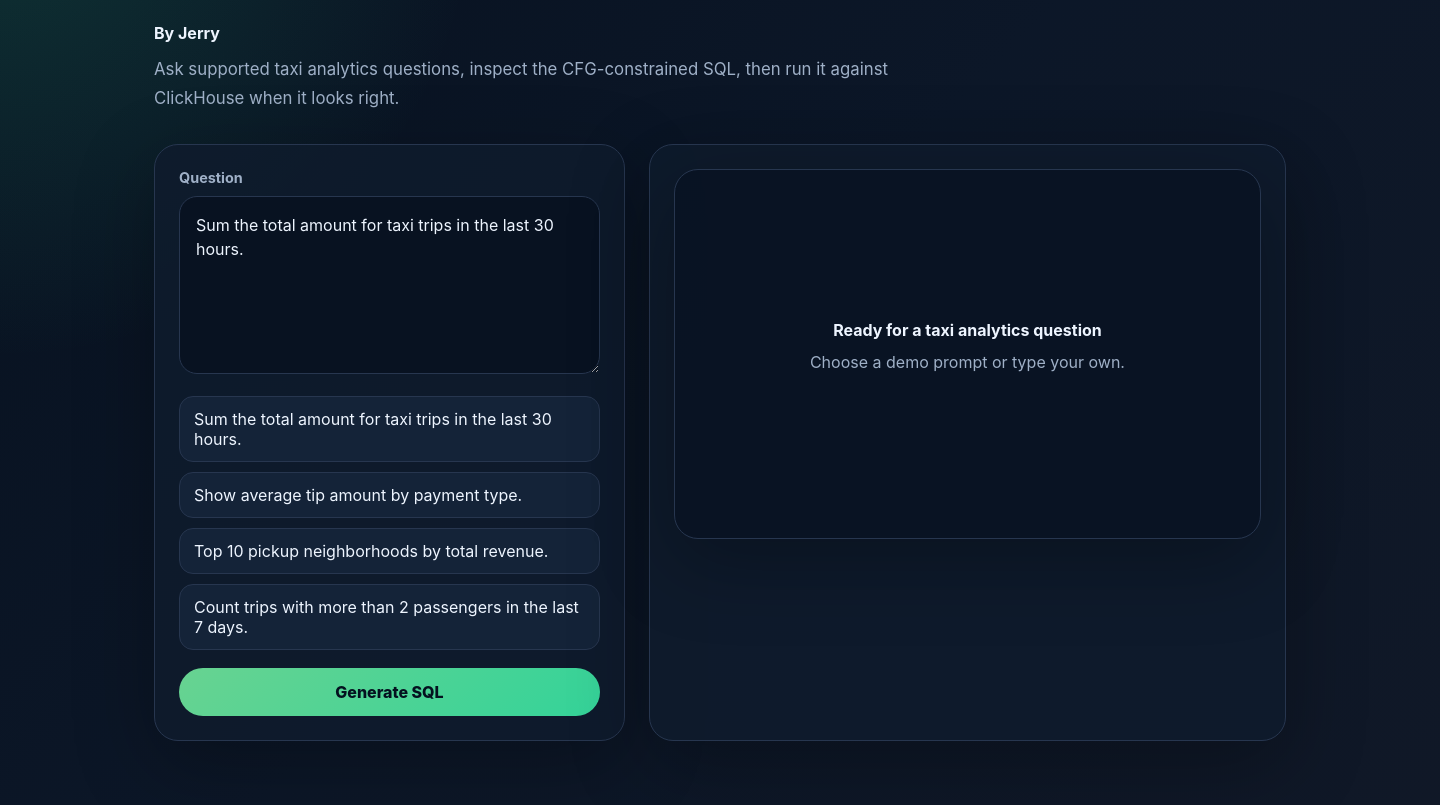
Test: Home › renders API errors
The image size is (1440, 805).
(page scrolled)
Step 1. Click the button "Generate SQL" → (389, 692), box [179,668,600,716]
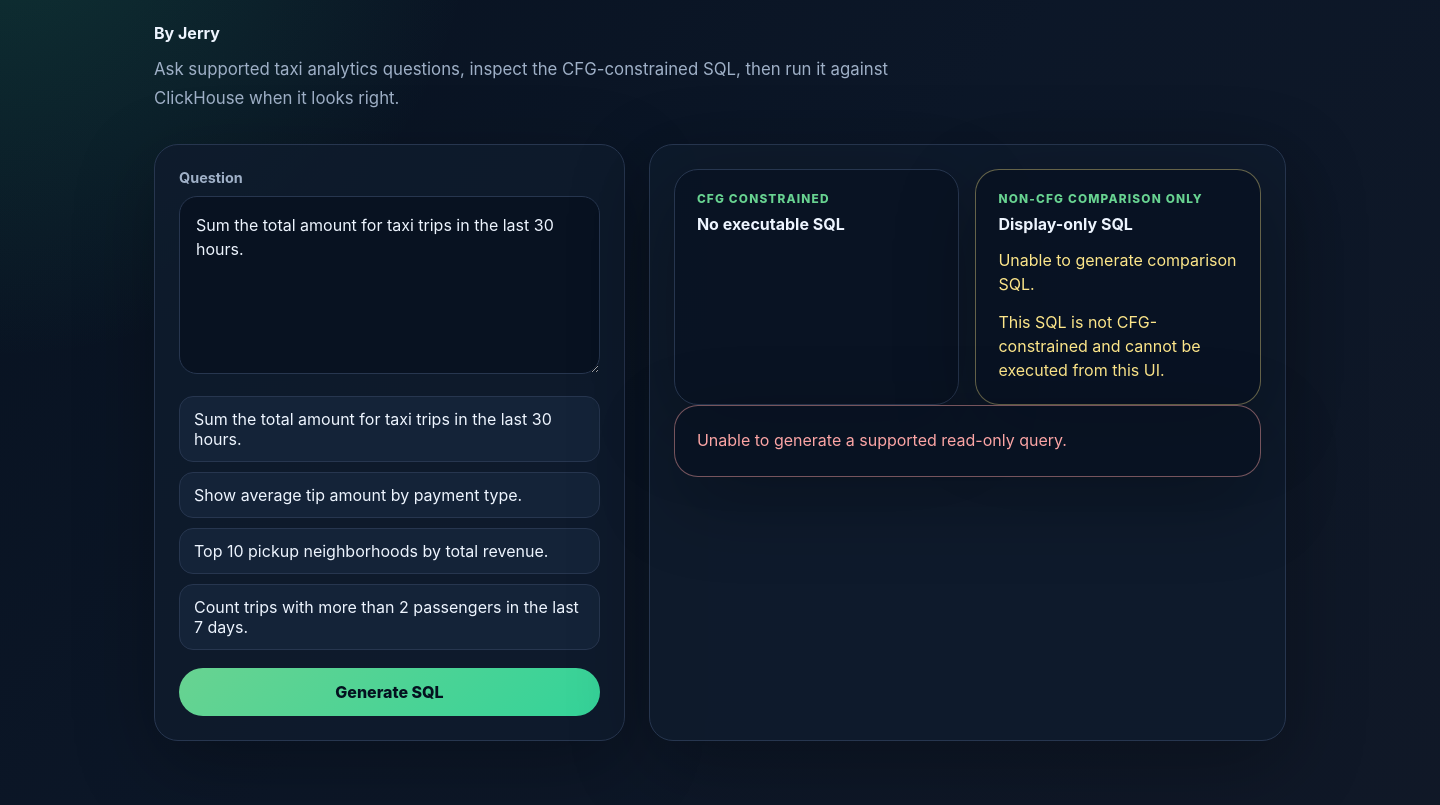
Expected: the message reads "Unable to generate a supported read-only query.", [697,430,1067,450]
